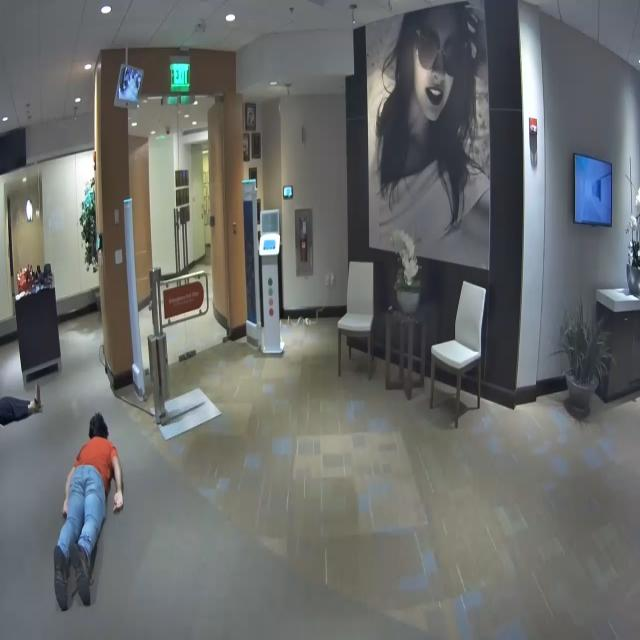fall: (56, 403, 147, 614)
